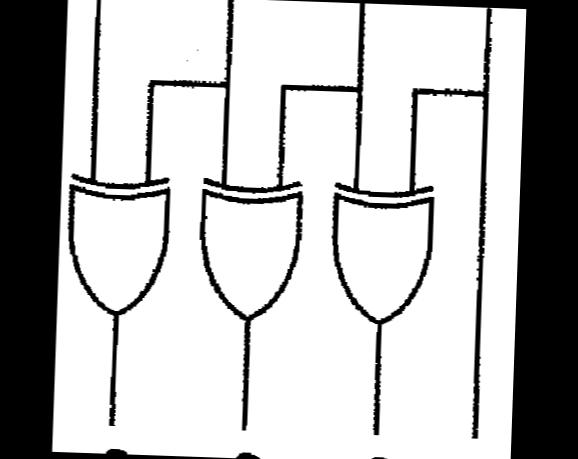xor: (188, 165, 310, 335), (58, 162, 178, 331), (322, 169, 440, 336)
